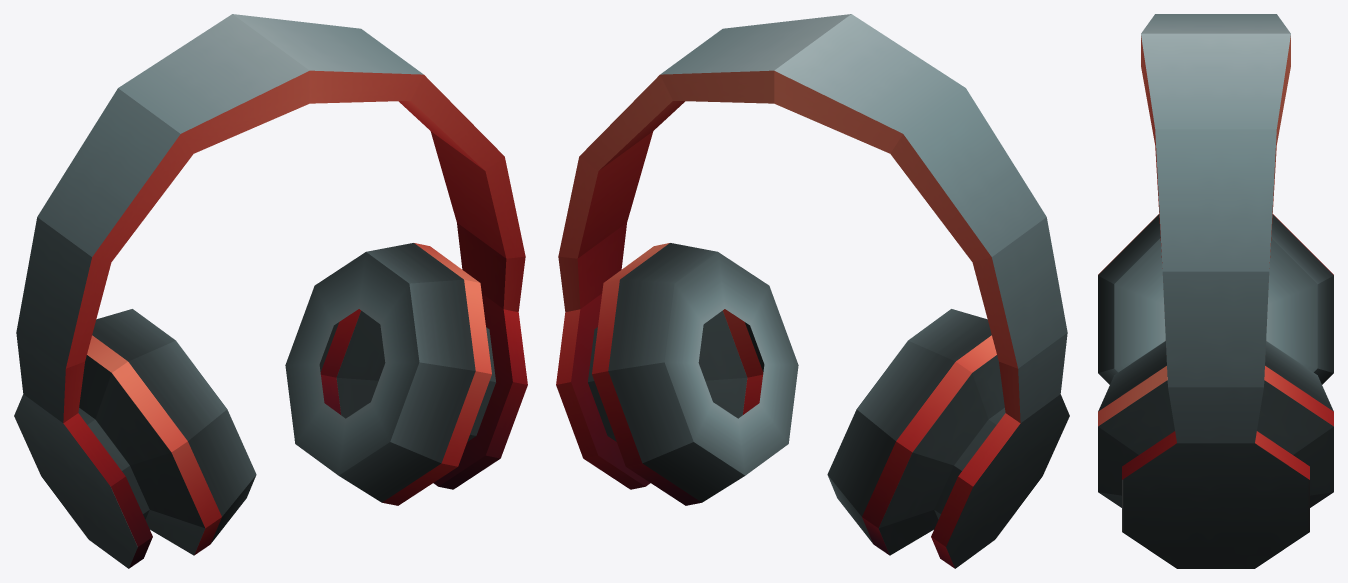
File: Warm-up_09_Headphones.glb
3 views of the same model, side by side, from view 1: azimuth 30°, elevation 25°; view 2: azimuth 150°, elevation 25°; view 3: azimuth 270°, elevation 25° (orthographic). The views are drawn at different scales.
Parts seen in each view (by area): view 1: Headphones_0; view 2: Headphones_0; view 3: Headphones_0.
Part boxes in pixels (box(x1,y1,x2,y2)): Headphones_0: box(14, 14, 527, 568); Headphones_0: box(556, 14, 1069, 568); Headphones_0: box(1098, 14, 1333, 568).
Bounding box in the file's own units: 0.1405 × 0.1379 × 0.0644.
Materials: 1 (1 with a texture image).
